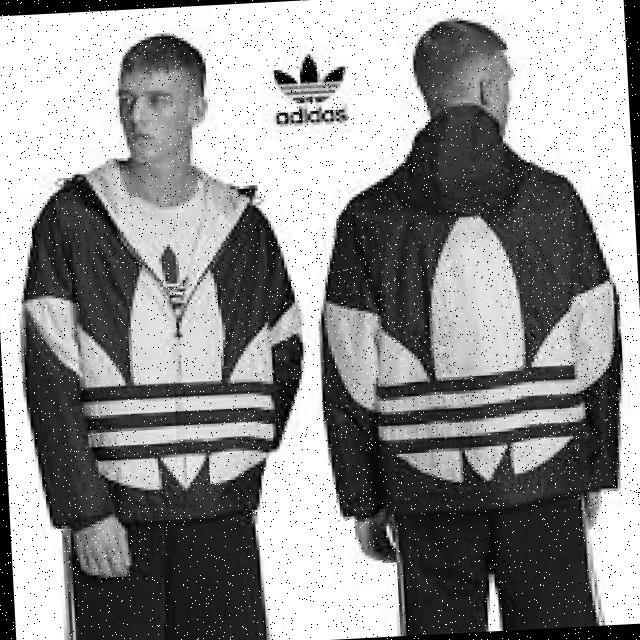Adidas: (316, 196, 636, 524), (16, 232, 313, 503), (259, 38, 359, 120)
